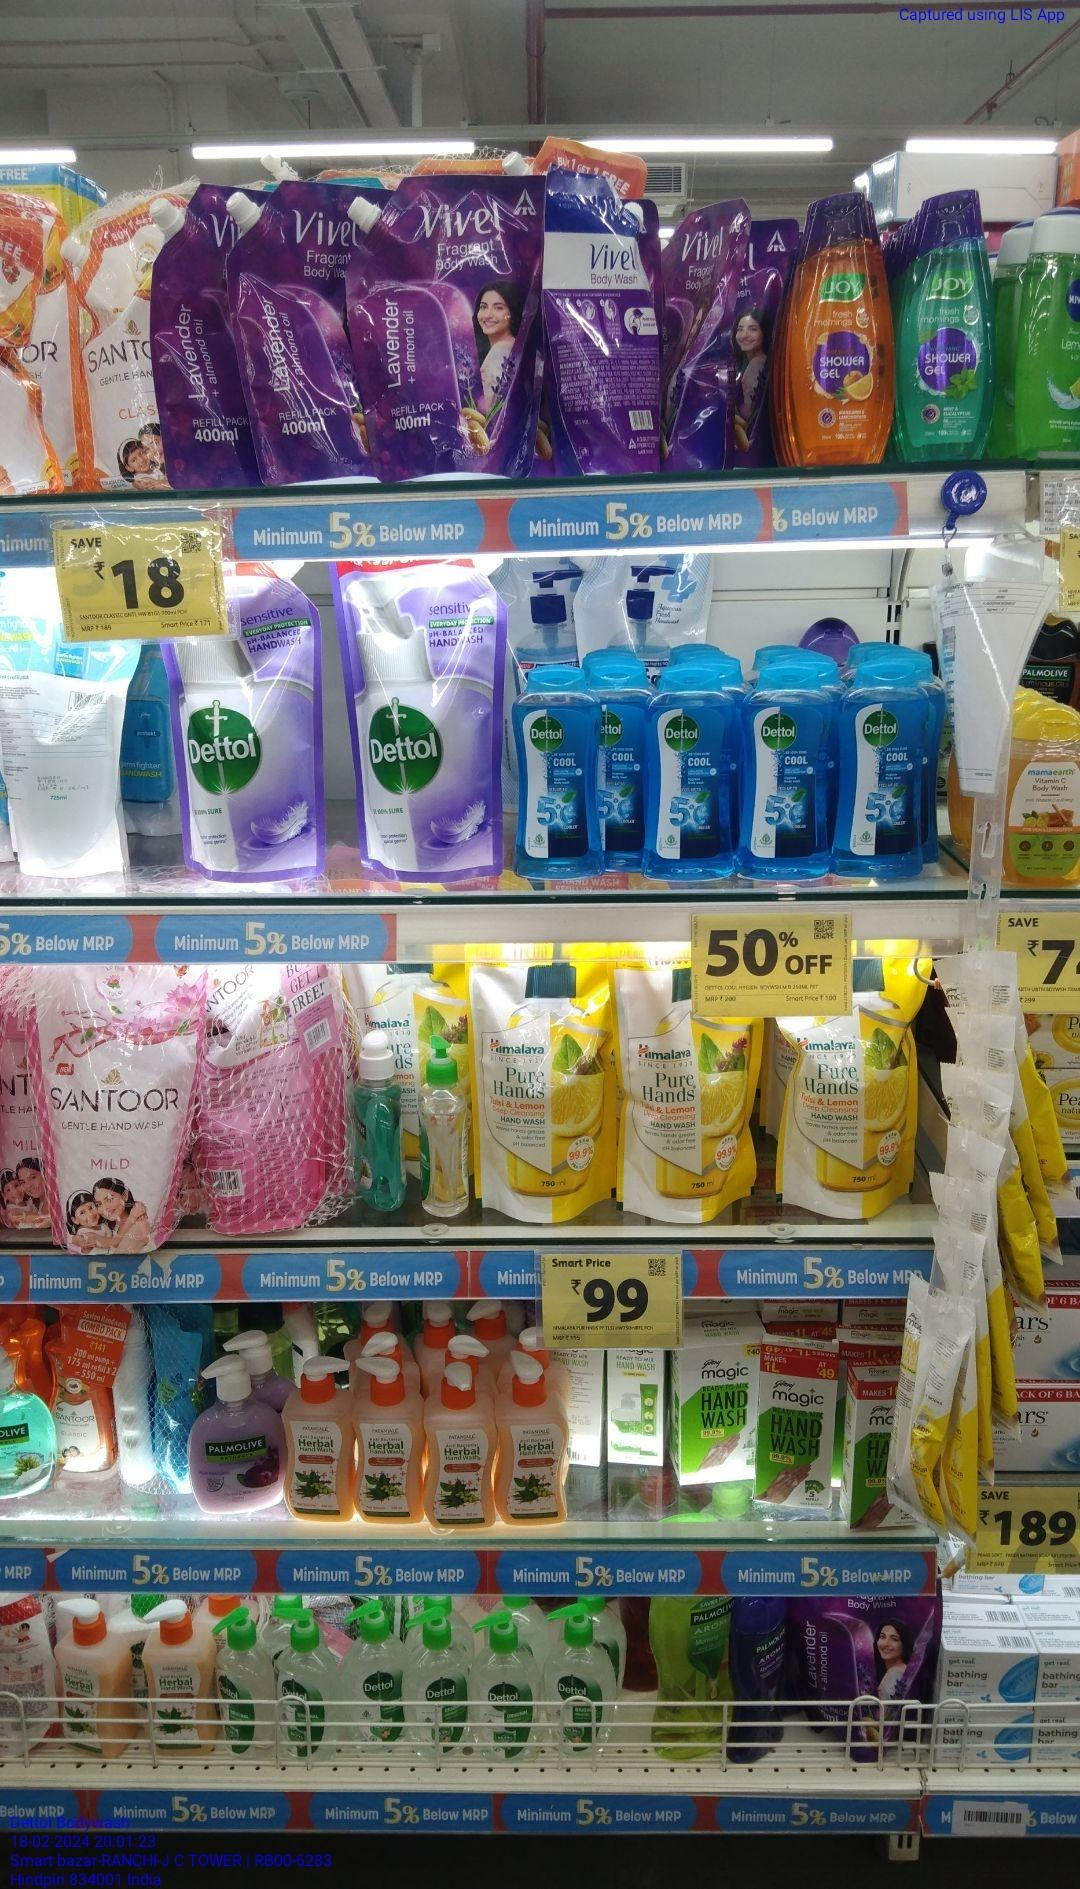Dettol_Bodywash_Cool: (833, 660, 924, 880), (641, 671, 736, 880), (514, 666, 604, 881), (740, 668, 829, 880)
Joy_Shower_Gel_Mandarin_and_Lemongrass_250ML: (775, 191, 890, 467)
Joy_Shower_Gel_Mint_and_Eucalyptus_250ML: (897, 188, 989, 462)
